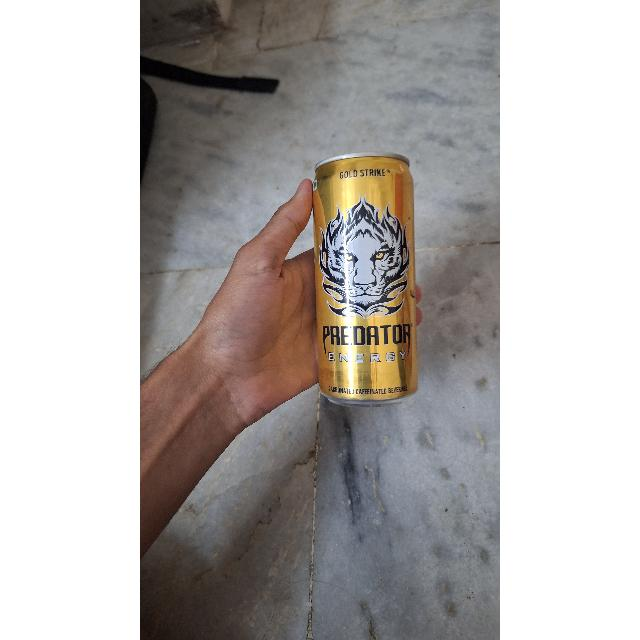Predator: (308, 148, 424, 404)
